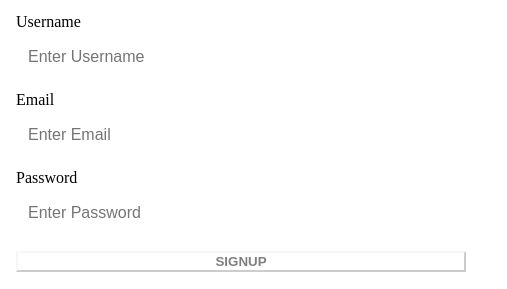
Test case: Register › Button › should change label when clicked
Type "dawid" into the field labelled "Username" at (253, 57), box [16, 39, 490, 75]
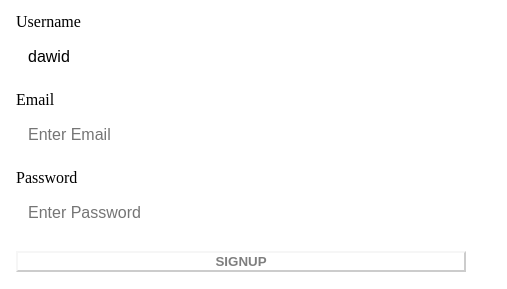
Type "dvds1987@gmail.com" into the field labelled "Email" at (253, 135), box [16, 117, 490, 153]
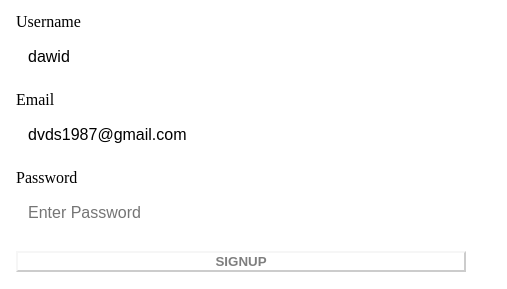
Type "qwerty" into the password field labelled "Password" at (253, 213), box [16, 195, 490, 231]
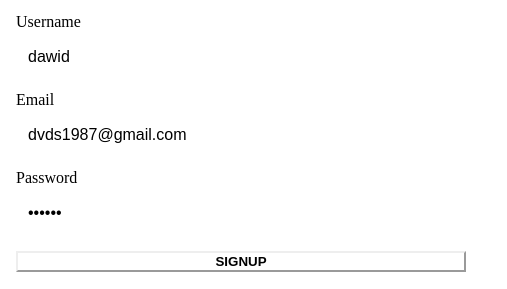
Click the button at (241, 262), box [16, 251, 466, 272]
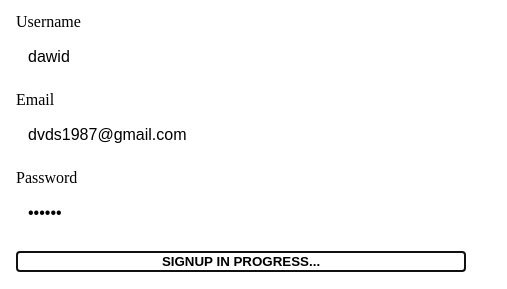
Result: the button reads "SIGNUP IN PROGRESS..." at [16, 251, 466, 272]
